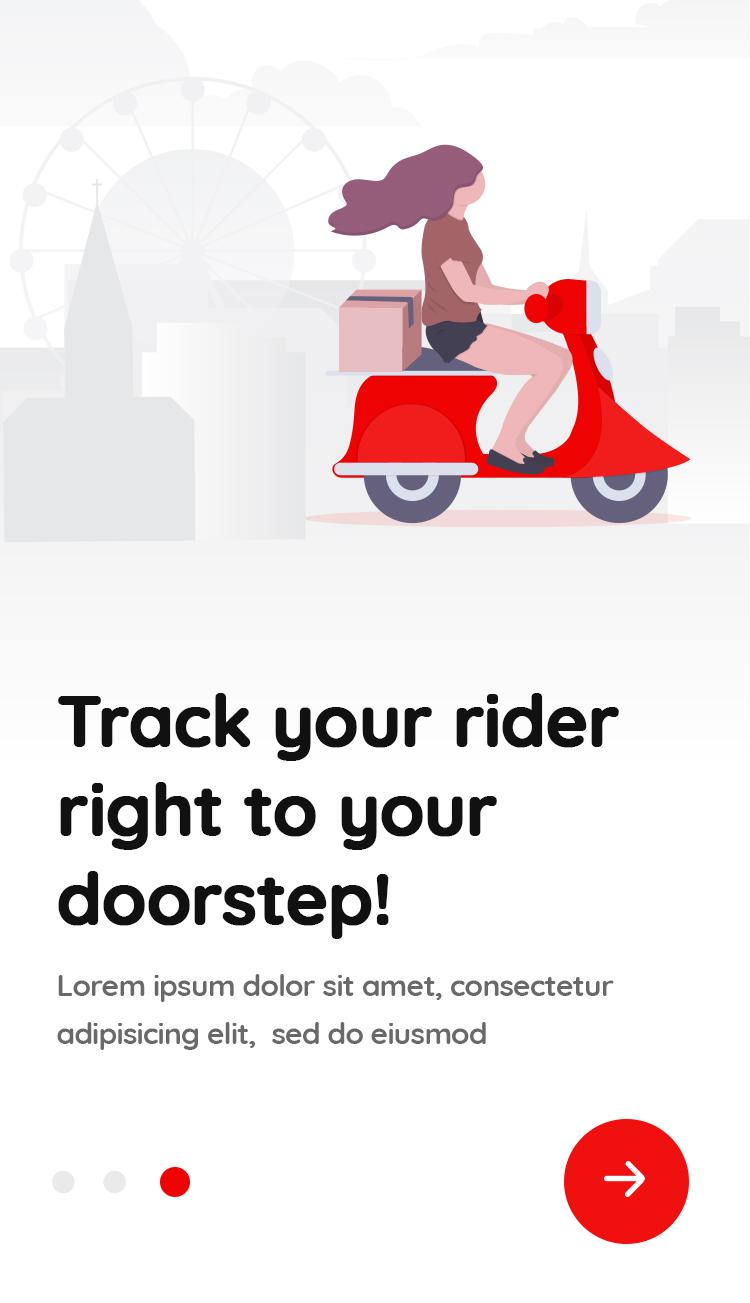Icon: (563, 1119, 690, 1245)
Image: (1, 1, 750, 544)
PageIndicator: (52, 1165, 192, 1198)
Text: (57, 691, 620, 940), (57, 973, 614, 1052)
